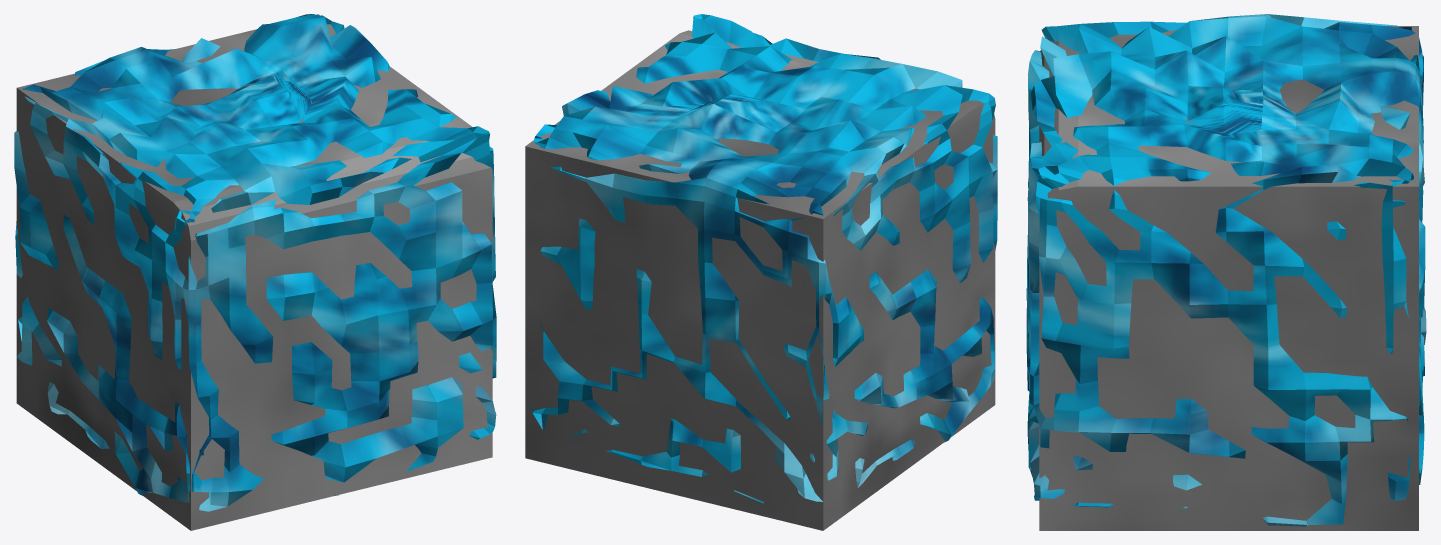
The model's file is CUBE_ARRONDI_PARTIEL3.fbx.
3 views of the same model, side by side, from view 1: azimuth 30°, elevation 25°; view 2: azimuth 150°, elevation 25°; view 3: azimuth 270°, elevation 25° (orthographic). The views are drawn at different scales.
Parts seen in each view (by area): view 1: Cube.002; view 2: Cube.002; view 3: Cube.002.
Part boxes in pixels (left/top/right/bottom): Cube.002: left=14, top=14, right=496, bottom=530; Cube.002: left=525, top=14, right=997, bottom=530; Cube.002: left=1026, top=14, right=1426, bottom=530.
Bounding box in the file's own units: 210 × 218 × 211.
